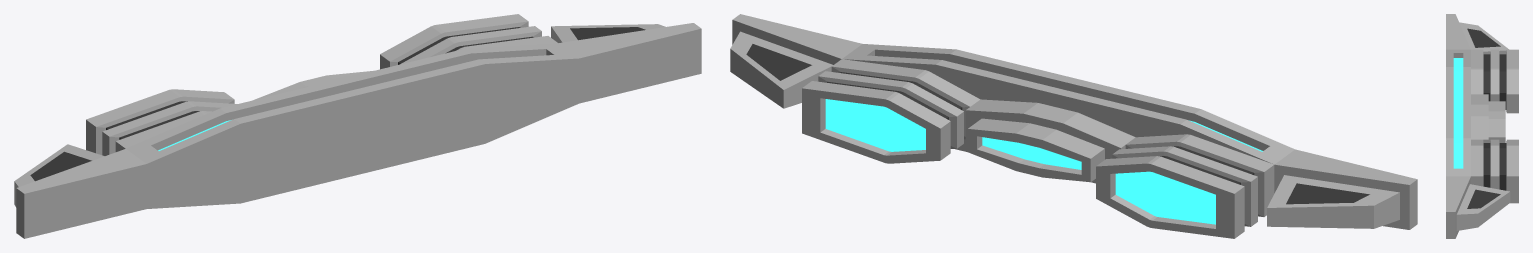
The model's file is Ship_Rear.fbx.
The picture shows the model from 3 angles, left to right: view 1: azimuth 30°, elevation 25°; view 2: azimuth 150°, elevation 25°; view 3: azimuth 270°, elevation 25°; orthographic projection. The views are drawn at different scales.
Visible parts, largest first — view 1: Ship Rear; view 2: Ship Rear; view 3: Ship Rear.
Part boxes in pixels (x1,y1,x2,y2): Ship Rear: (14, 14, 701, 238); Ship Rear: (730, 14, 1417, 238); Ship Rear: (1446, 14, 1518, 238).
Bounding box in the file's own units: 3752 × 422 × 583.
